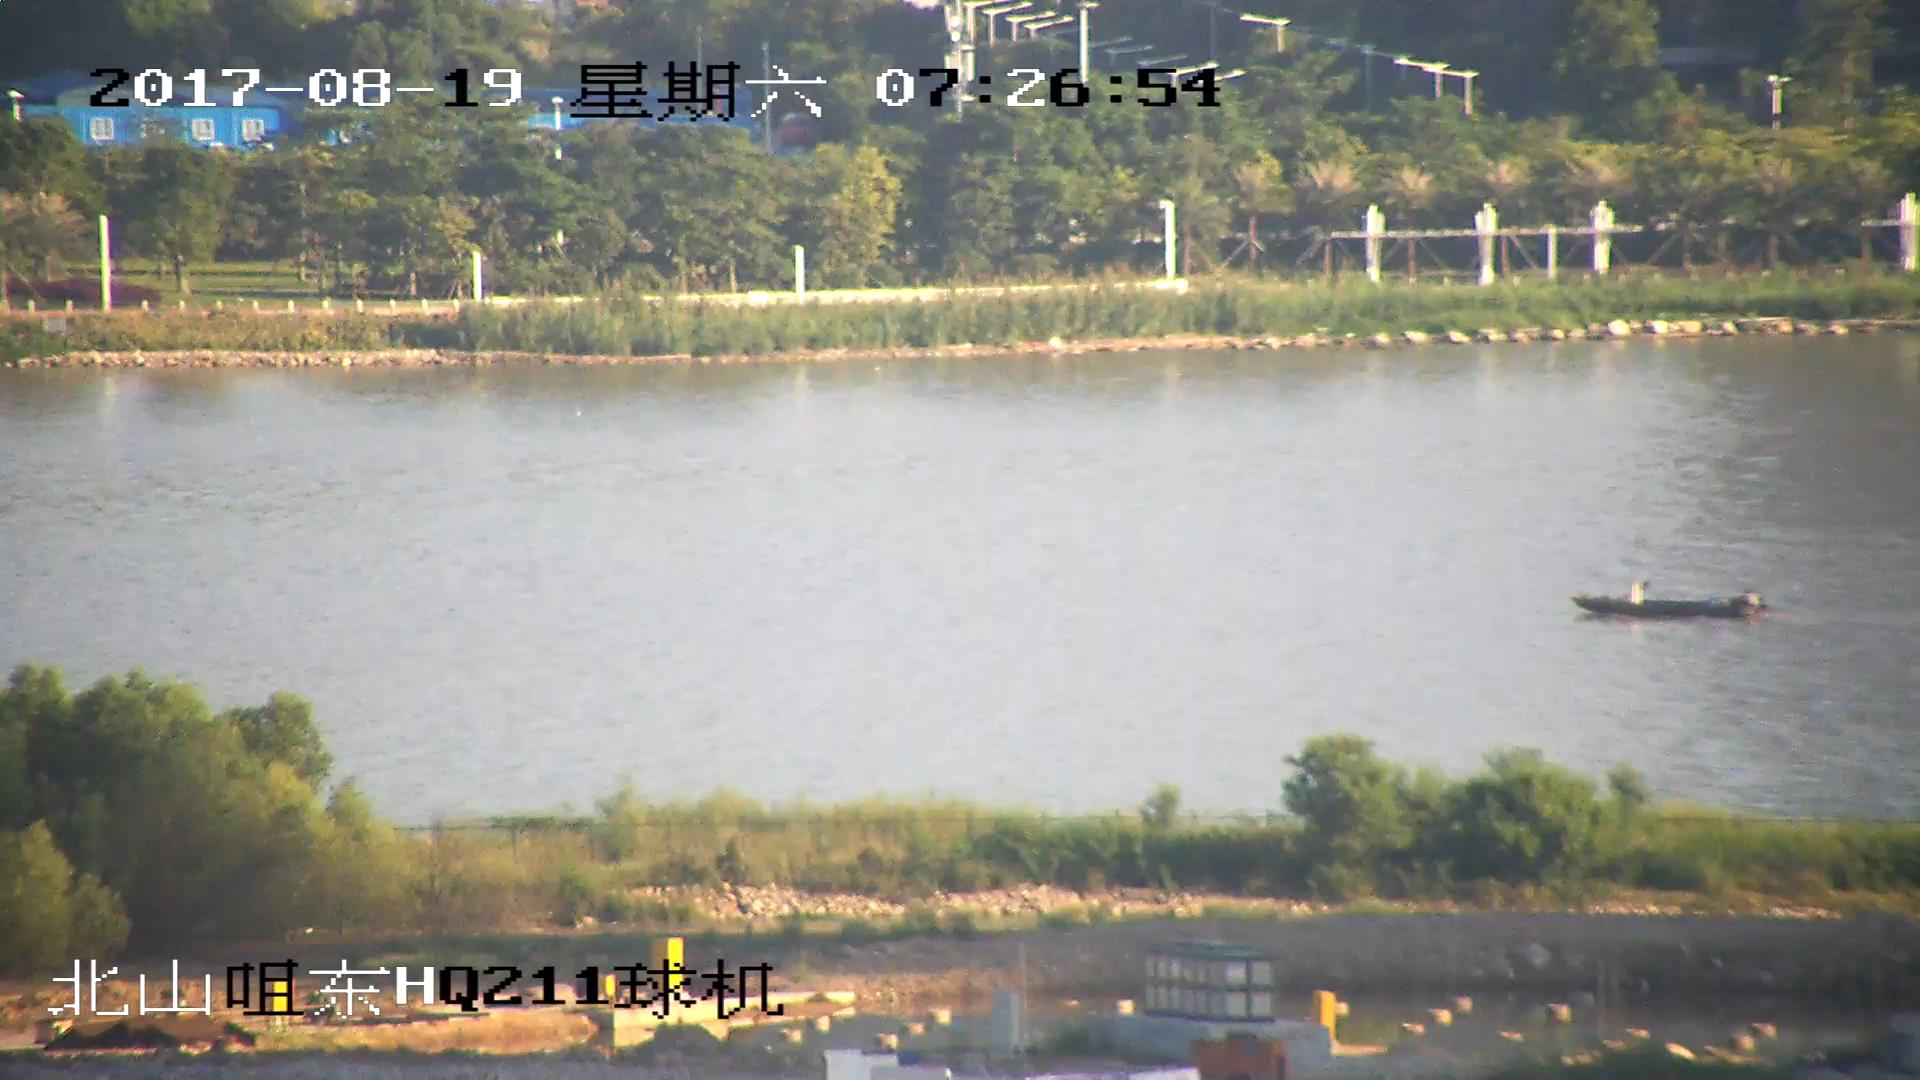fishing boat: (1578, 582, 1767, 623)
